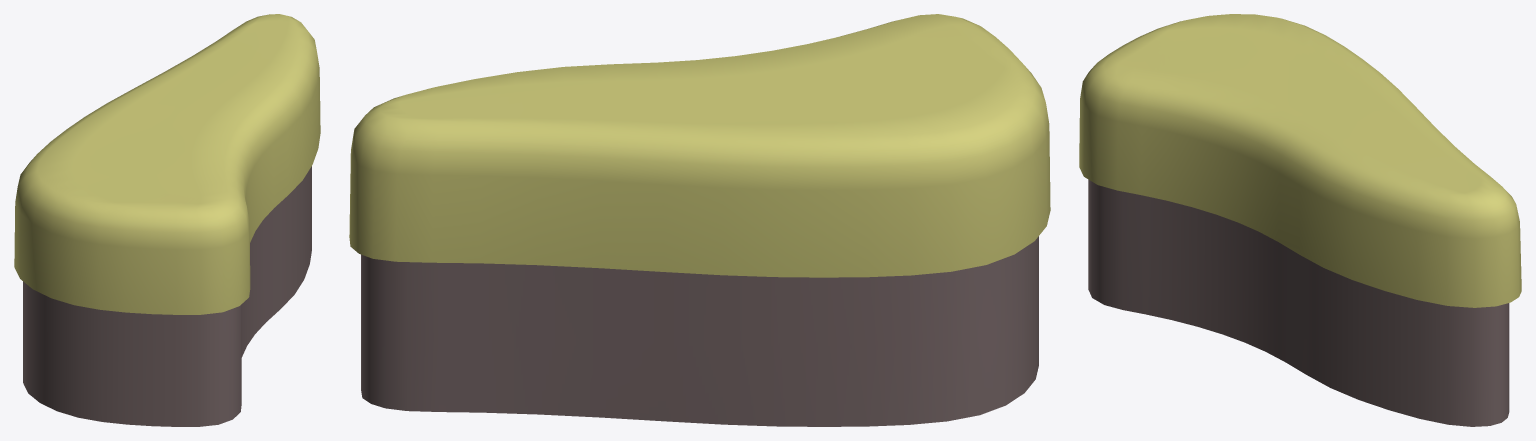
File: Mountains-03.fbx
3 views of the same model, side by side, from view 1: azimuth 30°, elevation 25°; view 2: azimuth 150°, elevation 25°; view 3: azimuth 270°, elevation 25° (orthographic). The views are drawn at different scales.
Visible parts, largest first — view 1: Mountains-03; view 2: Mountains-03; view 3: Mountains-03.
Boxes of the visible parts, left/top/right/bottom form: Mountains-03: left=14, top=14, right=320, bottom=426; Mountains-03: left=349, top=14, right=1050, bottom=426; Mountains-03: left=1079, top=14, right=1521, bottom=426.
Size of the model in its own units: 42942 by 22201 by 39661.
